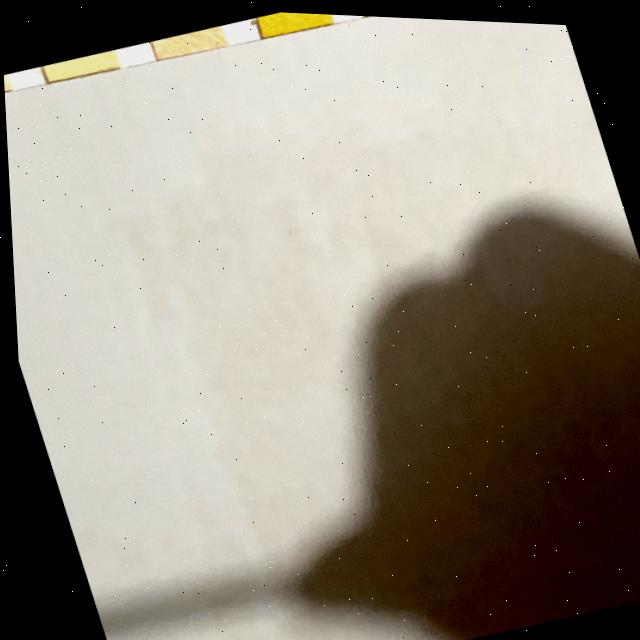Blood: (259, 9, 333, 36)
Protein: (44, 46, 118, 83)
pH: (152, 21, 226, 59)
